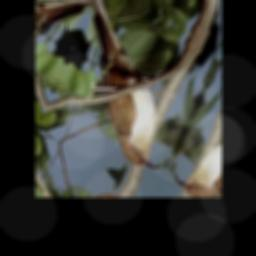Cuckoo: (43, 0, 211, 179)
